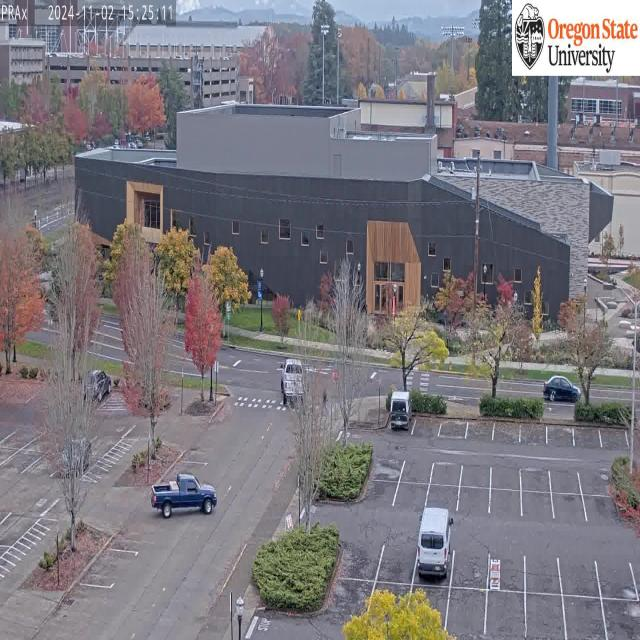available: (442, 584, 487, 635), (482, 592, 528, 640), (557, 597, 607, 640), (520, 595, 568, 638), (553, 557, 604, 597), (410, 588, 450, 636), (596, 598, 640, 640), (596, 556, 640, 598), (336, 578, 376, 623), (372, 583, 410, 630), (519, 554, 563, 593), (378, 542, 417, 585), (450, 549, 492, 588), (489, 550, 527, 590), (342, 538, 380, 578), (548, 492, 588, 522), (579, 496, 621, 524), (488, 464, 523, 492), (518, 492, 554, 519), (486, 491, 523, 516), (548, 468, 582, 494), (460, 462, 493, 488), (456, 487, 487, 514), (394, 482, 428, 506), (577, 474, 614, 496), (400, 460, 434, 483), (518, 471, 553, 493), (426, 486, 462, 506), (431, 461, 462, 484), (372, 460, 402, 482), (516, 426, 548, 446), (369, 480, 398, 501), (542, 428, 574, 447), (598, 432, 631, 450), (571, 430, 603, 448), (492, 425, 523, 443), (412, 418, 442, 435), (438, 423, 467, 439), (465, 423, 493, 438)
occupied: (415, 510, 454, 580), (386, 392, 414, 432)
